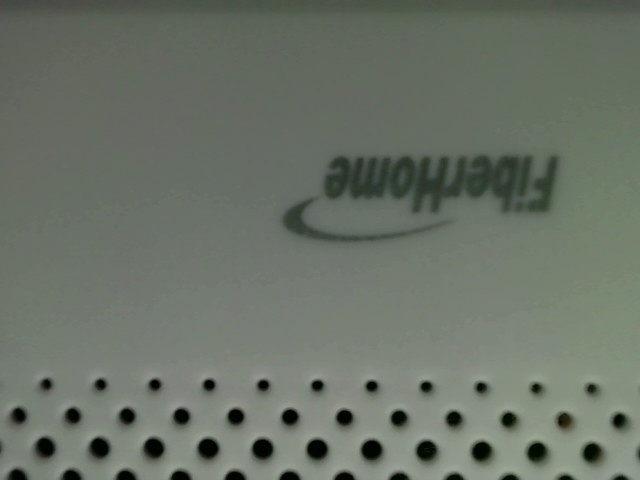AI_FiberHome: (271, 143, 571, 256)
